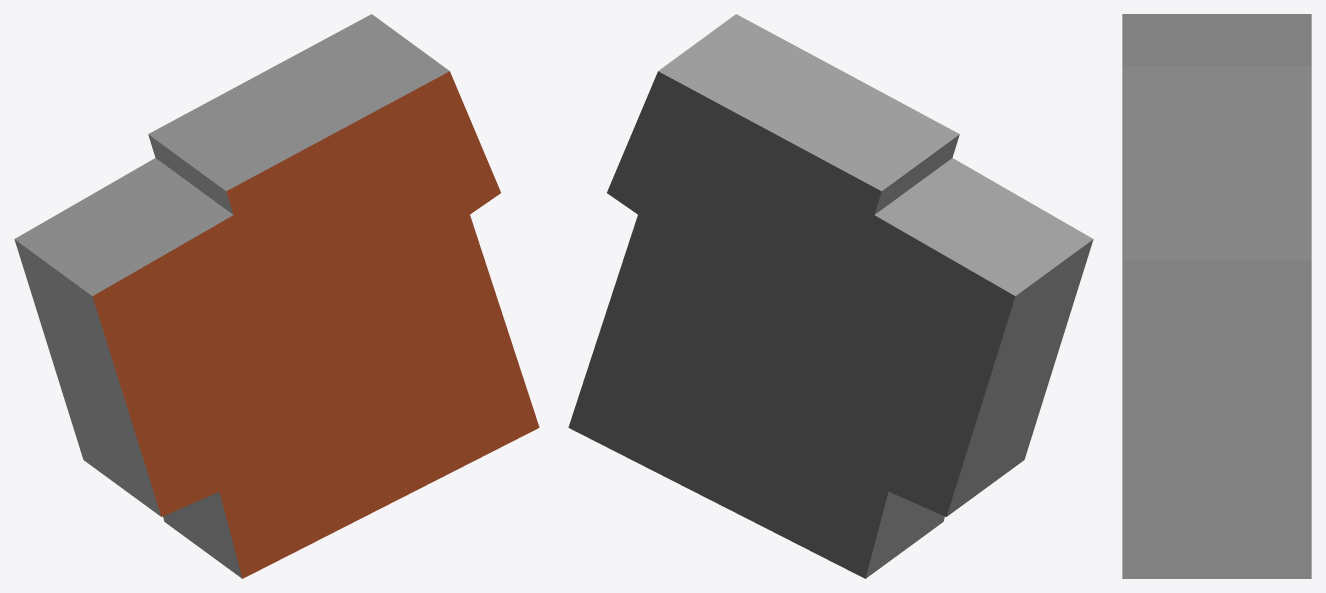
Rendered from construction_2915_assumed_A_Casa_h6m.obj.
3 views of the same model, side by side, from view 1: azimuth 30°, elevation 25°; view 2: azimuth 150°, elevation 25°; view 3: azimuth 270°, elevation 25° (orthographic). The views are drawn at different scales.
Visible parts, largest first — view 1: construction_2915_assumed_A_Casa; view 2: construction_2915_assumed_A_Casa; view 3: construction_2915_assumed_A_Casa.
Part boxes in pixels (x1=…): construction_2915_assumed_A_Casa: x1=14, y1=14, x2=539, y2=578; construction_2915_assumed_A_Casa: x1=568, y1=14, x2=1093, y2=578; construction_2915_assumed_A_Casa: x1=1122, y1=14, x2=1311, y2=578.
Bounding box in the file's own units: 19.83 × 19.37 × 6.
